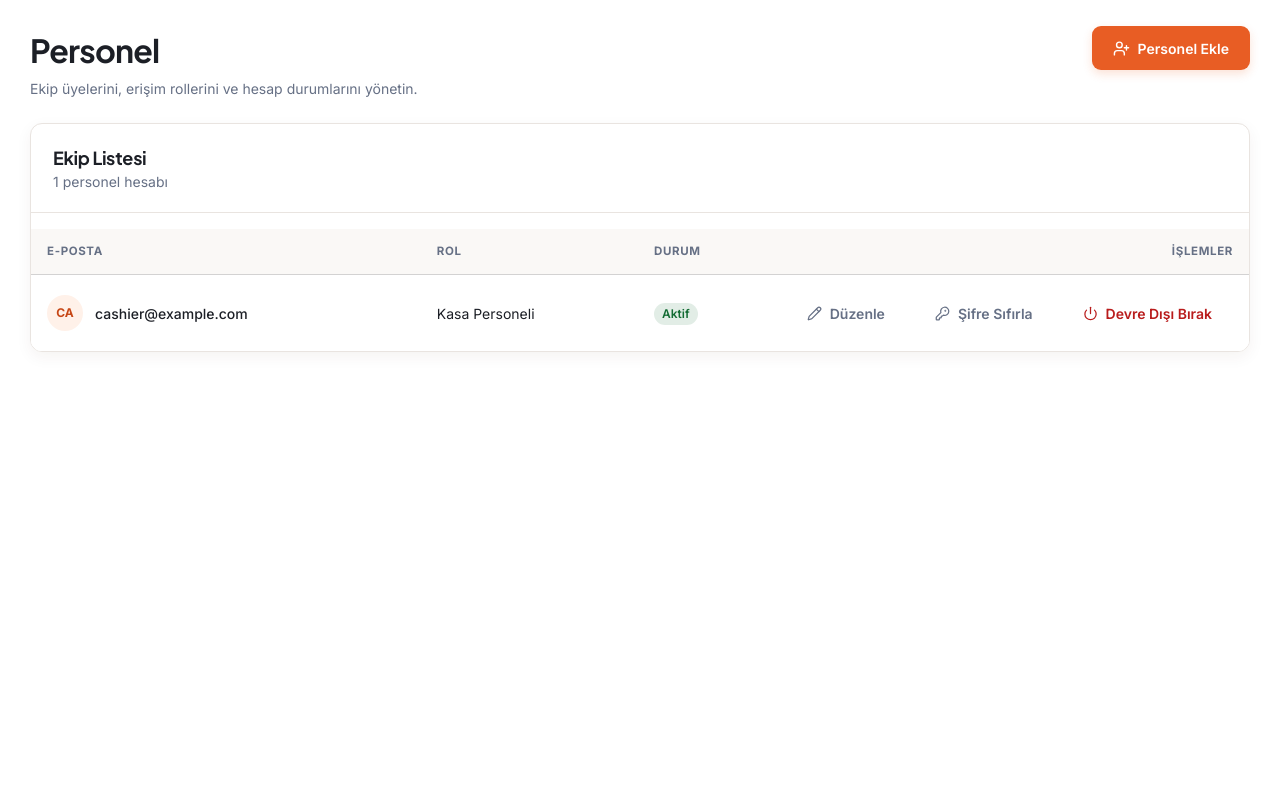
StaffPage - Düzenle › e-postayı değiştirince yalnızca updateStaffUserEmail çağrılır
Check: the text "cashier@example.com" is shown, box [95,303,248,324]
Step 1. Click the button "Düzenle" → (846, 313), box [786,291,906,335]
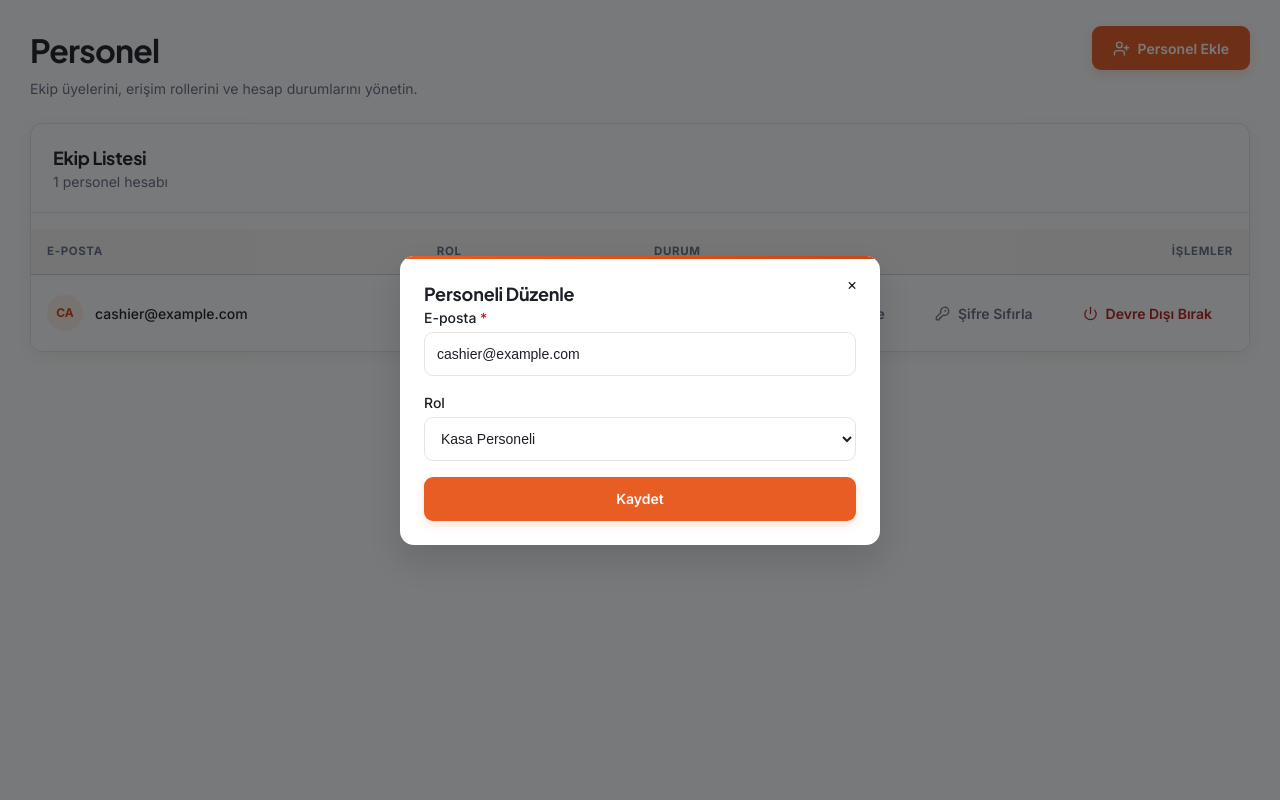
Check: the heading "Personeli Düzenle" is shown, box [424,282,574,304]
Check: the field labelled "E-posta *" holds "cashier@example.com"
Step 2. Replace the text in the field labelled "E-posta *" with "fixed@example.com" → (640, 354), box [424,332,856,376]
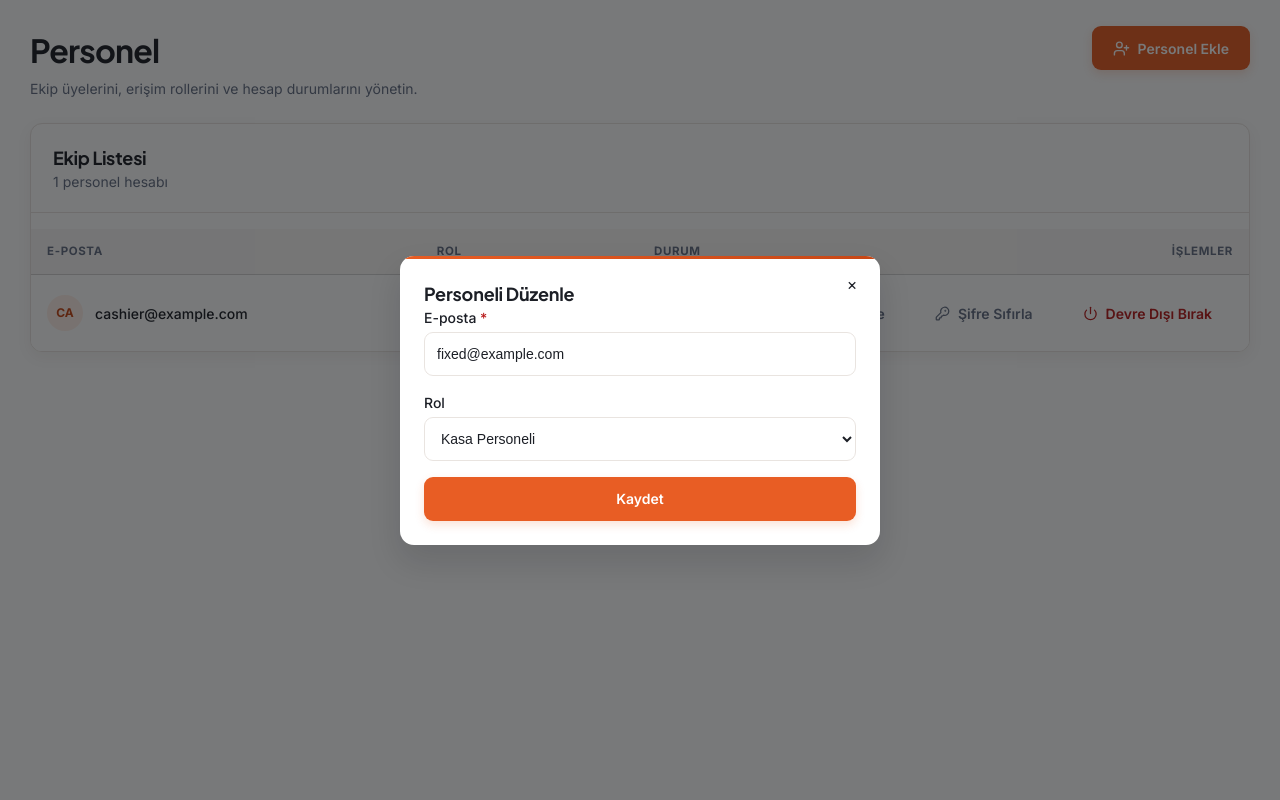
Step 3. Click the button "Kaydet" → (640, 498), box [424,476,856,520]
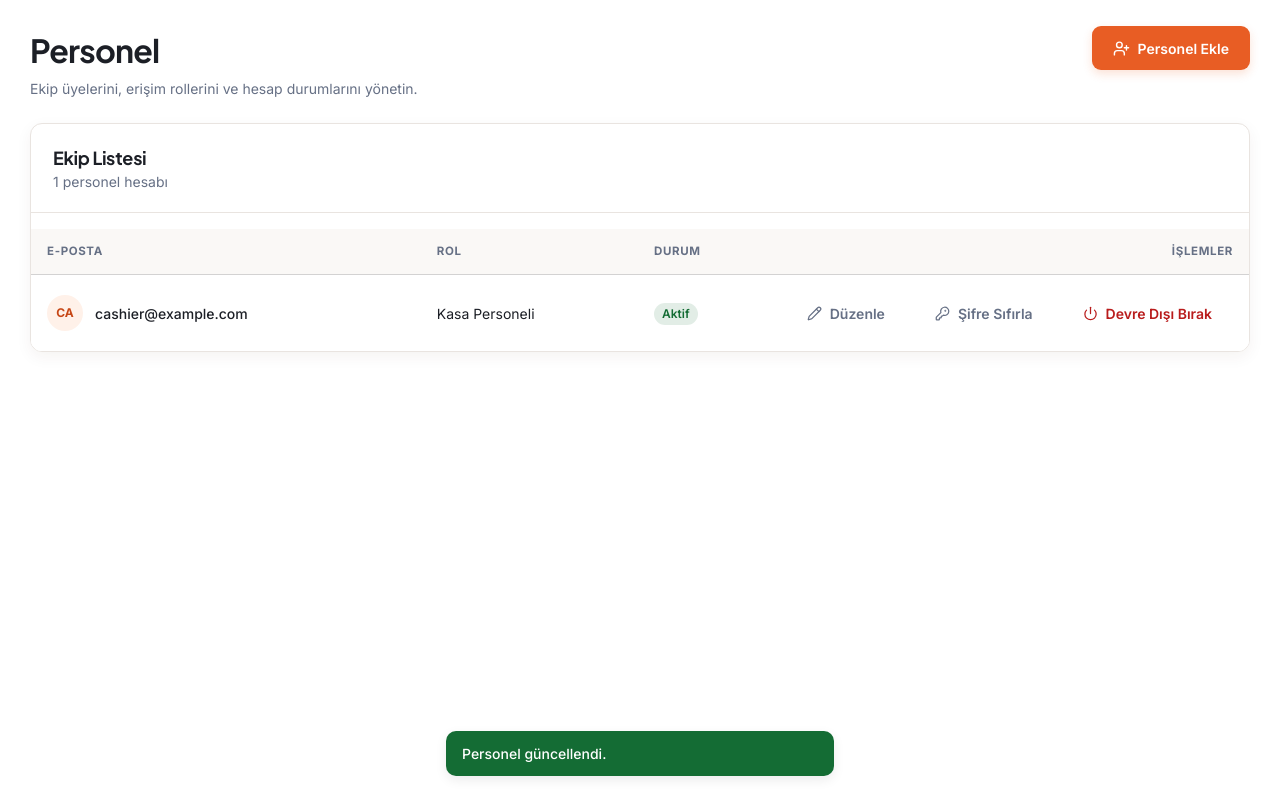
Check: the heading "Personeli Düzenle" is gone
